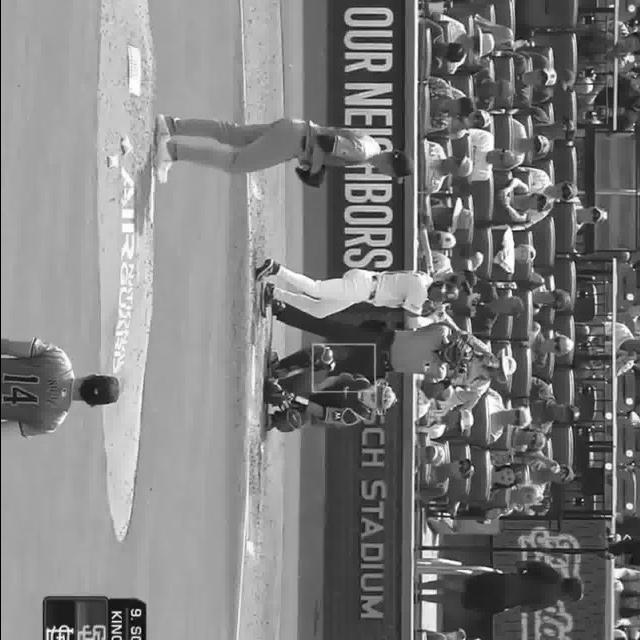base: (247, 341, 257, 397), (249, 343, 257, 392)
baseball_glove: (260, 374, 292, 408), (288, 163, 326, 190)
bat: (420, 227, 434, 287)
shoe: (147, 138, 177, 190), (150, 114, 172, 154), (255, 282, 276, 320), (254, 256, 278, 283)
